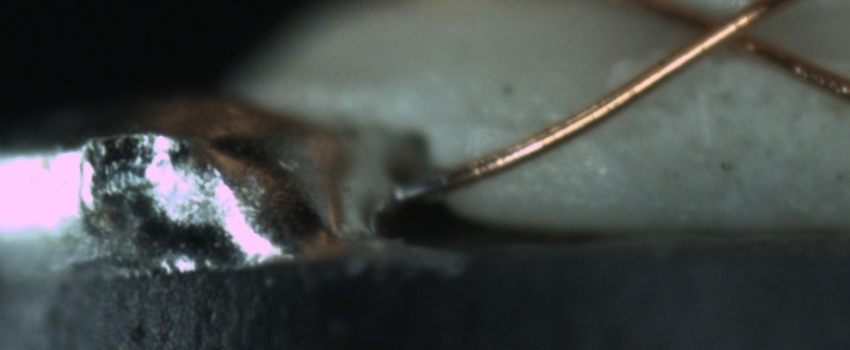CL: (676, 1, 778, 62)
DL: (445, 98, 562, 156)
TS: (392, 179, 450, 207)
